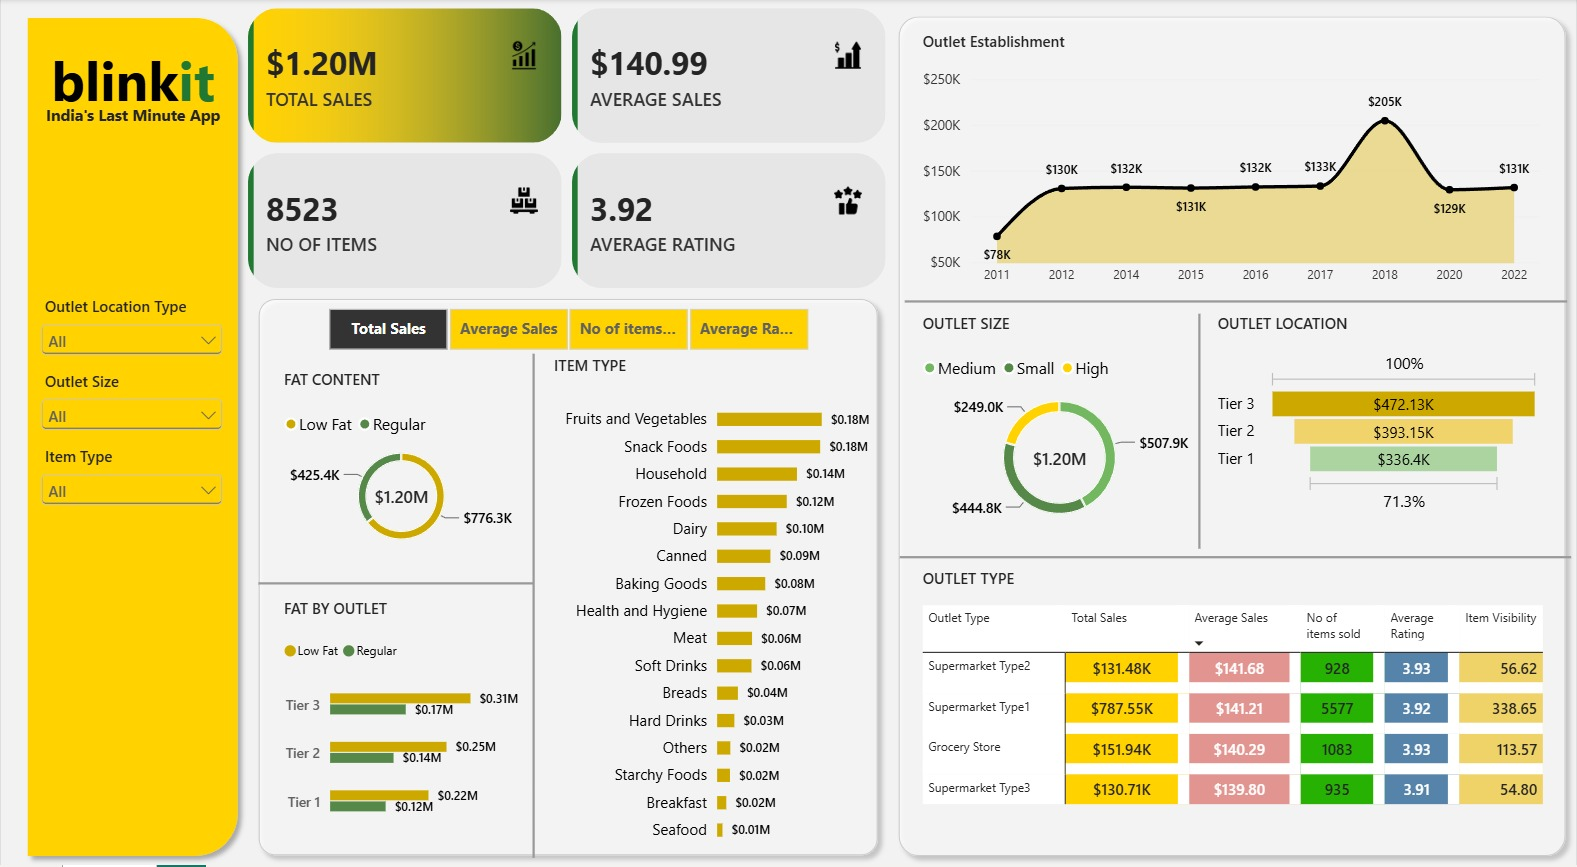

What the dashboard file says about the page in this screenshot:
{"tool":"powerbi","page":{"name":"Page 1","canvas":[1400,800],"ordinal":0},"visuals":[{"type":"shape","box":[13.9,24.1,205.1,763.3],"z":0},{"type":"shape","box":[229.1,529.4,244.3,12.7],"z":0,"group":"g1"},{"type":"shape","box":[458.9,332.1,29.1,448.1],"z":1000,"group":"g1"},{"type":"textbox","box":[15.2,55.7,203.8,82.3],"z":2000},{"type":"textbox","box":[15.2,110,203.8,22.8],"z":3000},{"type":"cardVisual","fields":{"Data":["DAX Measures.Total Sales","DAX Measures.Average Sales","DAX Measures.No of items sold","DAX Measures.Average Rating"]},"box":[219,24.1,569.6,250.6],"z":4000},{"type":"shape","box":[220.3,274.7,568.4,512.7],"z":5000},{"type":"slicer","fields":{"Values":["Parameter.Parameter"]},"box":[270.9,289.9,465,40],"z":6000},{"type":"donutChart","title":"FAT CONTENT","fields":{"Category":["BlinkIT Grocery Data.Item Fat Content"],"Y":["DAX Measures.Total Sales"]},"box":[235.4,331.6,240.5,193.7],"z":7000},{"type":"clusteredBarChart","title":"FAT BY OUTLET","fields":{"Category":["BlinkIT Grocery Data.Outlet Location Type"],"Series":["BlinkIT Grocery Data.Item Fat Content"],"Y":["DAX Measures.Total Sales"]},"box":[235.4,534.2,240.5,240.5],"z":8000},{"type":"group","id":"g1","title":"Group 1","box":[229.1,332.1,258.9,448.1],"z":9000},{"type":"clusteredBarChart","title":"ITEM TYPE","fields":{"Category":["BlinkIT Grocery Data.Item Type"],"Y":["DAX Measures.Total Sales"]},"box":[475.9,319,312.7,468.4],"z":10000},{"type":"shape","box":[788.7,23.1,610.9,764.4],"z":11000},{"type":"lineChart","title":"Outlet Establishment ","fields":{"Category":["BlinkIT Grocery Data.Outlet Establishment Year"],"Y":["DAX Measures.Total Sales"]},"box":[803.6,31.5,580.7,258.2],"z":12000},{"type":"shape","box":[803.7,280.6,588.9,9.2],"z":12001},{"type":"donutChart","title":"OUTLET SIZE","fields":{"Category":["BlinkIT Grocery Data.Outlet Size"],"Y":["DAX Measures.Total Sales"]},"box":[803.7,280.6,275,225],"z":12002},{"type":"shape","box":[1058.9,296.8,12.7,209],"z":12003},{"type":"funnel","title":"OUTLET LOCATION","fields":{"Category":["BlinkIT Grocery Data.Outlet Location Type"],"Y":["DAX Measures.Total Sales"]},"box":[1065.8,280.6,318.7,207.9],"z":12004},{"type":"shape","box":[799.1,505.8,597,15],"z":12005},{"type":"pivotTable","title":"OUTLET TYPE","fields":{"Rows":["BlinkIT Grocery Data.Outlet Type"],"Values":["DAX Measures.Total Sales","DAX Measures.Average Sales","DAX Measures.No of items sold","DAX Measures.Average Rating","Sum(BlinkIT Grocery Data.Item Visibility)"]},"box":[803.7,508.1,588.9,252.9],"z":12006},{"type":"slicer","fields":{"Values":["BlinkIT Grocery Data.Outlet Location Type"]},"box":[31.2,280.6,170.9,67],"z":12007},{"type":"slicer","fields":{"Values":["BlinkIT Grocery Data.Outlet Size"]},"box":[31.2,347.6,170.9,67],"z":12008},{"type":"slicer","fields":{"Values":["BlinkIT Grocery Data.Item Type"]},"box":[31.2,414.6,170.9,67],"z":12009}]}

Visuals, with their boxes on the page's 1400x800 design canvas (x1, y1, x2, y2). These are canvas units, not pixel positions in the 1577x867 screenshot, which may show the page scaled, cropped or inside an application window:
shape: <bbox>14, 24, 219, 787</bbox>
shape: <bbox>229, 529, 473, 542</bbox>
shape: <bbox>459, 332, 488, 780</bbox>
textbox: <bbox>15, 56, 219, 138</bbox>
textbox: <bbox>15, 110, 219, 133</bbox>
cardVisual - DAX Measures.Total Sales x DAX Measures.Average Sales: <bbox>219, 24, 789, 275</bbox>
shape: <bbox>220, 275, 789, 787</bbox>
slicer - Parameter.Parameter: <bbox>271, 290, 736, 330</bbox>
"FAT CONTENT" donutChart: <bbox>235, 332, 476, 525</bbox>
"FAT BY OUTLET" clusteredBarChart: <bbox>235, 534, 476, 775</bbox>
"Group 1" group: <bbox>229, 332, 488, 780</bbox>
"ITEM TYPE" clusteredBarChart: <bbox>476, 319, 789, 787</bbox>
shape: <bbox>789, 23, 1400, 788</bbox>
"Outlet Establishment " lineChart: <bbox>804, 32, 1384, 290</bbox>
shape: <bbox>804, 281, 1393, 290</bbox>
"OUTLET SIZE" donutChart: <bbox>804, 281, 1079, 506</bbox>
shape: <bbox>1059, 297, 1072, 506</bbox>
"OUTLET LOCATION" funnel: <bbox>1066, 281, 1384, 488</bbox>
shape: <bbox>799, 506, 1396, 521</bbox>
"OUTLET TYPE" pivotTable: <bbox>804, 508, 1393, 761</bbox>
slicer - BlinkIT Grocery Data.Outlet Location Type: <bbox>31, 281, 202, 348</bbox>
slicer - BlinkIT Grocery Data.Outlet Size: <bbox>31, 348, 202, 415</bbox>
slicer - BlinkIT Grocery Data.Item Type: <bbox>31, 415, 202, 482</bbox>
